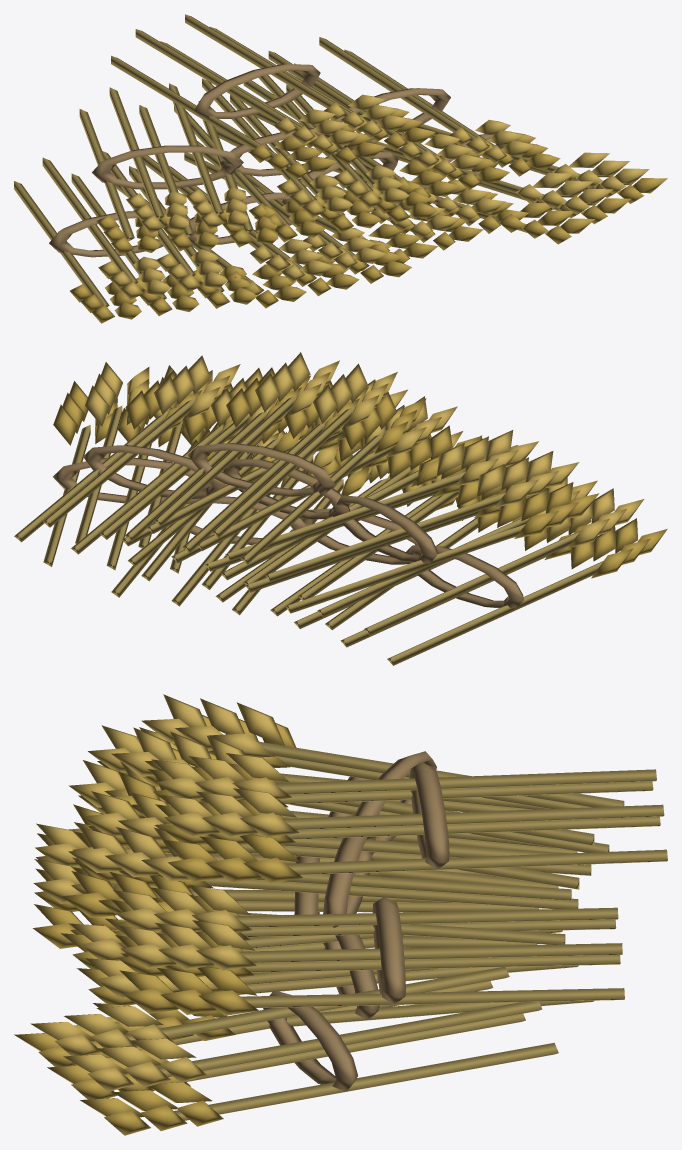
The model's file is pile-rice-8.gltf.
The picture shows the model from 3 angles, top to bottom: view 1: azimuth 30°, elevation 25°; view 2: azimuth 150°, elevation 25°; view 3: azimuth 270°, elevation 25°; orthographic projection. The views are drawn at different scales.
Parts seen in each view (by area): view 1: pile-rice-8; view 2: pile-rice-8; view 3: pile-rice-8.
Boxes of the visible parts, x1,y1,x2,y2 form: pile-rice-8: [14, 14, 667, 323]; pile-rice-8: [14, 352, 667, 665]; pile-rice-8: [14, 694, 667, 1135].
Bounding box in the file's own units: 0.7921 × 0.1748 × 0.5717.
